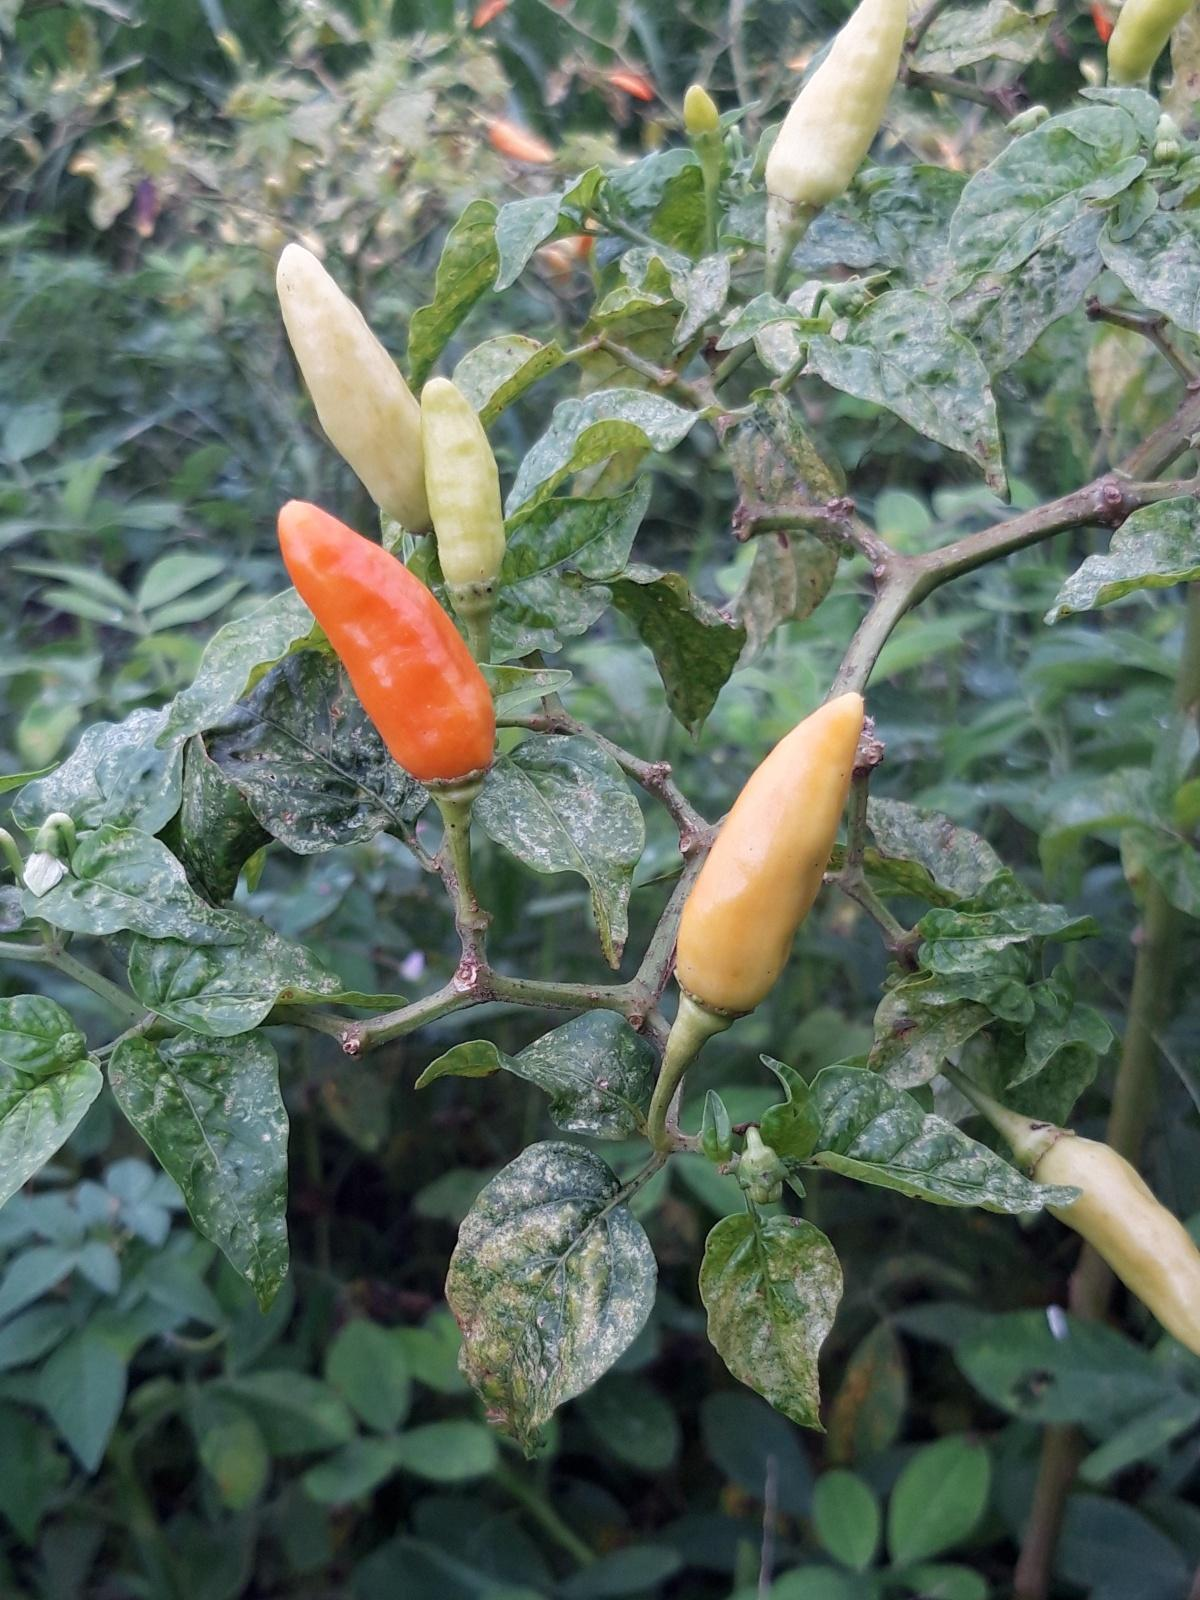cabai_normal: (275, 494, 497, 786), (672, 690, 868, 1000), (275, 241, 444, 532), (1032, 1126, 1200, 1351), (766, 1, 908, 202), (416, 373, 511, 588), (1108, 1, 1192, 77), (487, 117, 555, 168), (683, 81, 720, 132)
